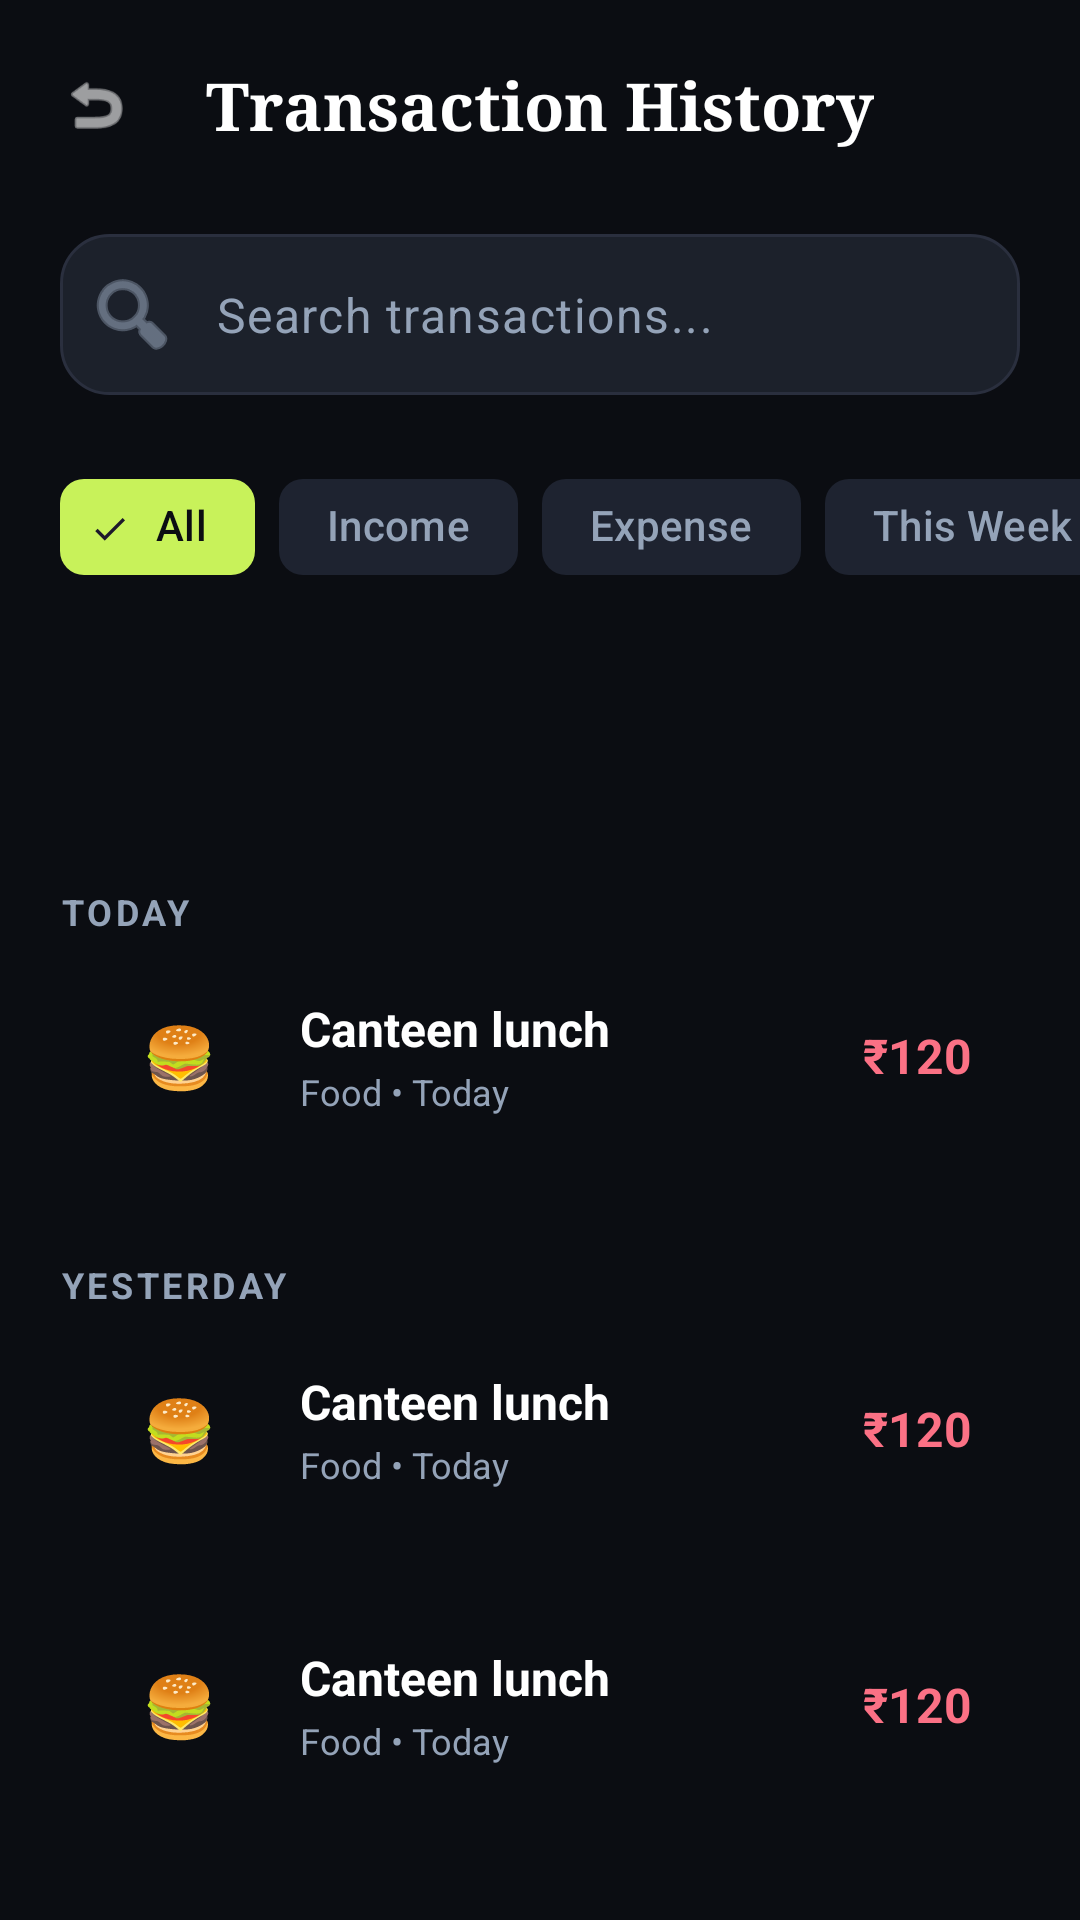

Icon bounding boxes for this 1080px x 1920px phone screenshot, format box(x1, y1, x2, y2):
revert: box(71, 82, 123, 129)
